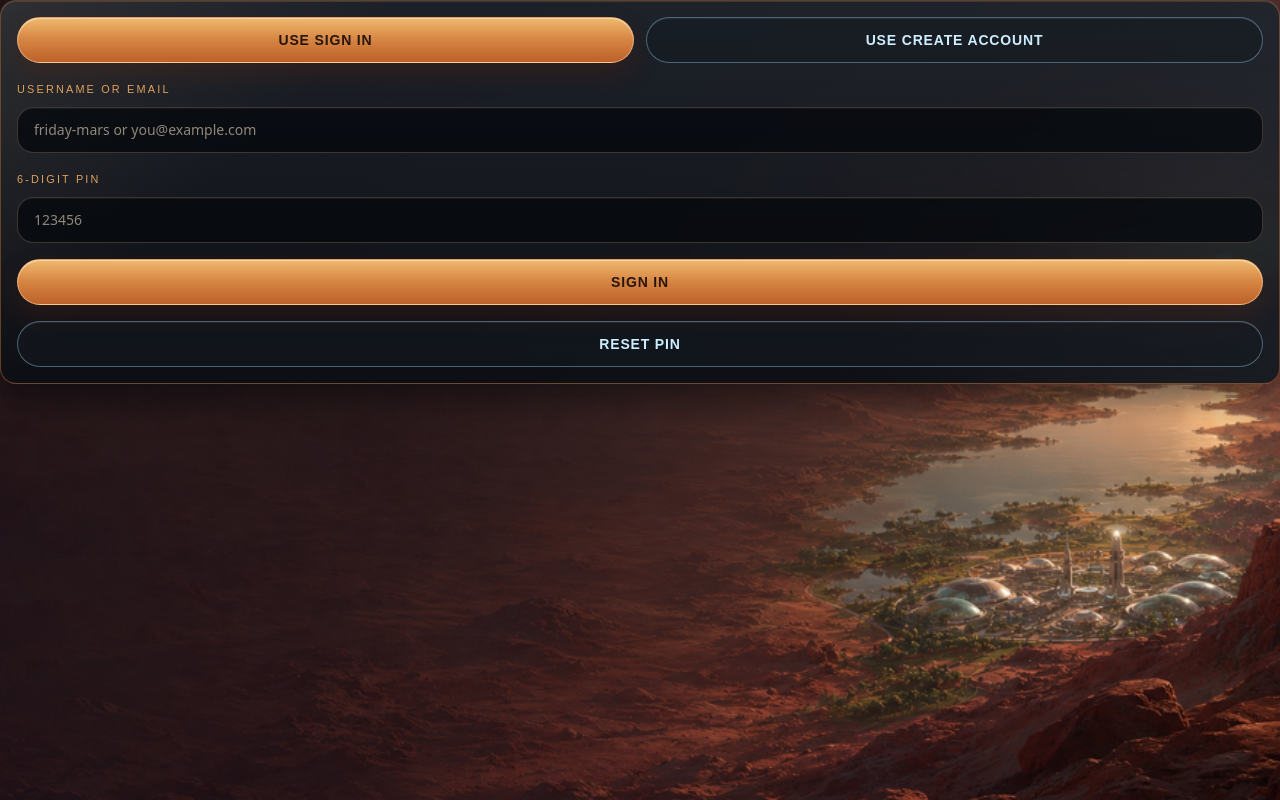
Test: LoginForm › keeps a new user on the username box when the chosen name is taken
Click the button "Use Create Account": (954, 40) [646,17,1263,63]
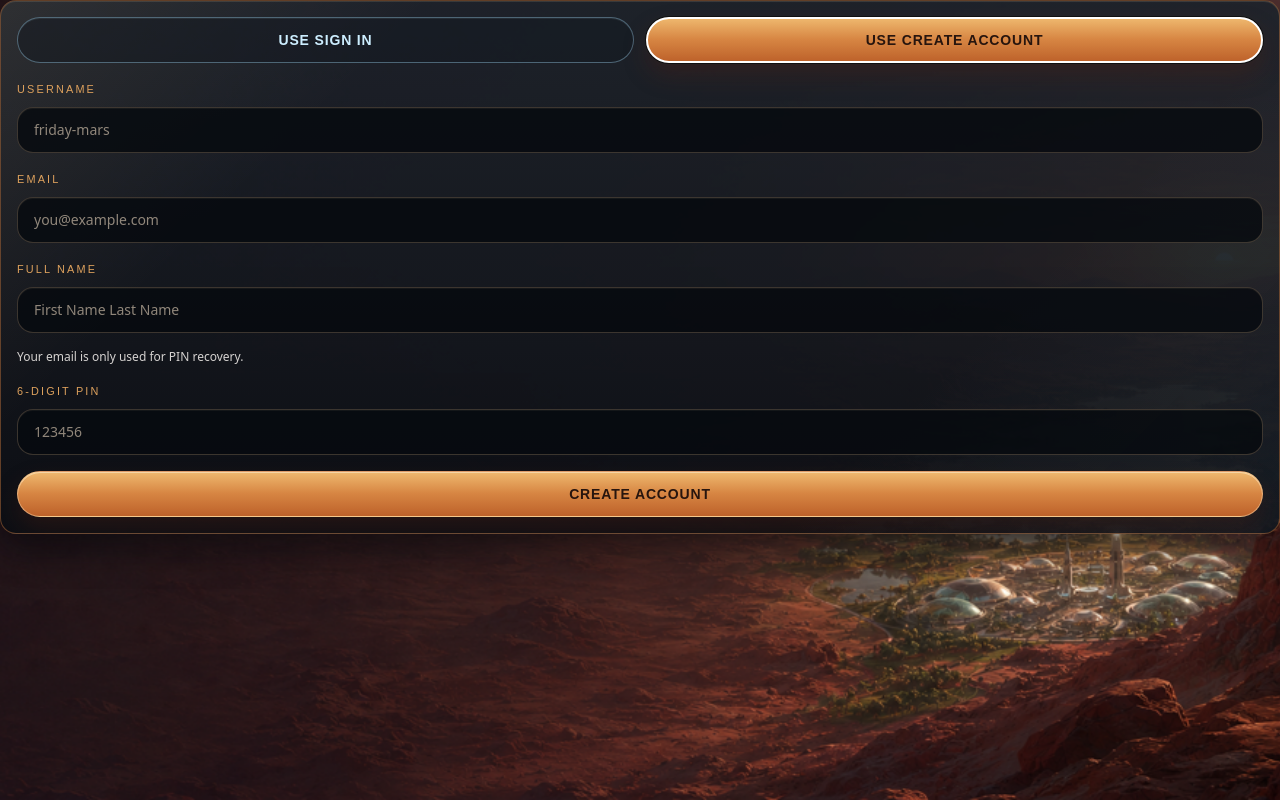
In the field labelled "Full Name": (640, 310) [17,287,1263,333], type "Friday Mars"
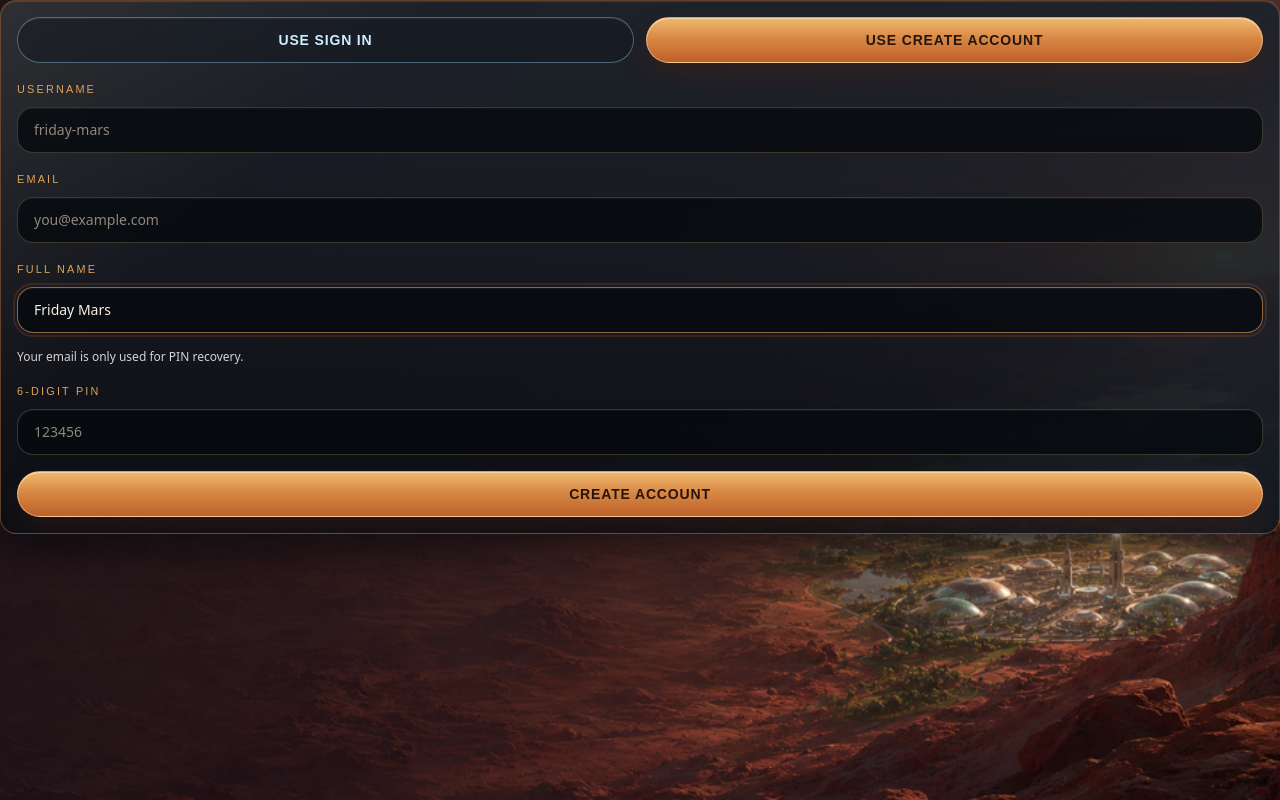
In the field labelled "Username": (640, 130) [17,107,1263,153], type "revloki"
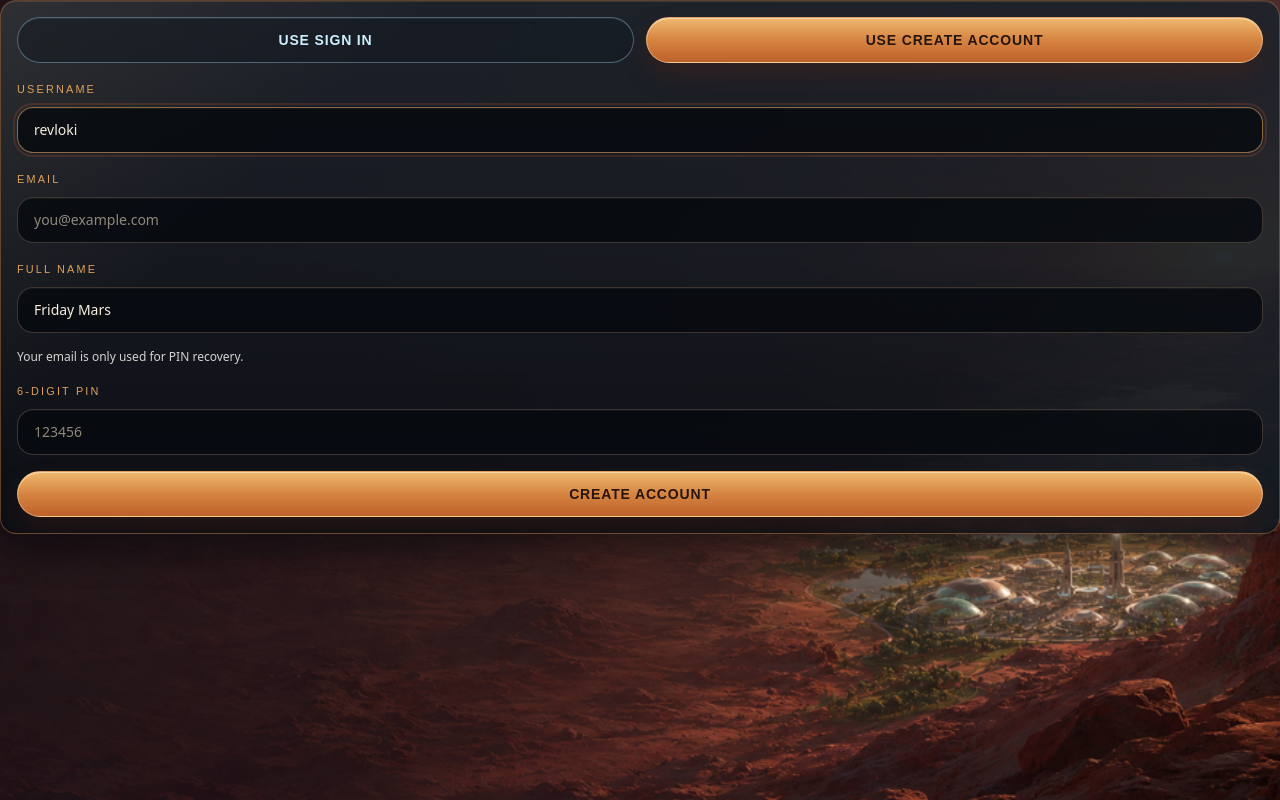
In the field labelled "Email": (640, 220) [17,197,1263,243], type "friday@example.com"
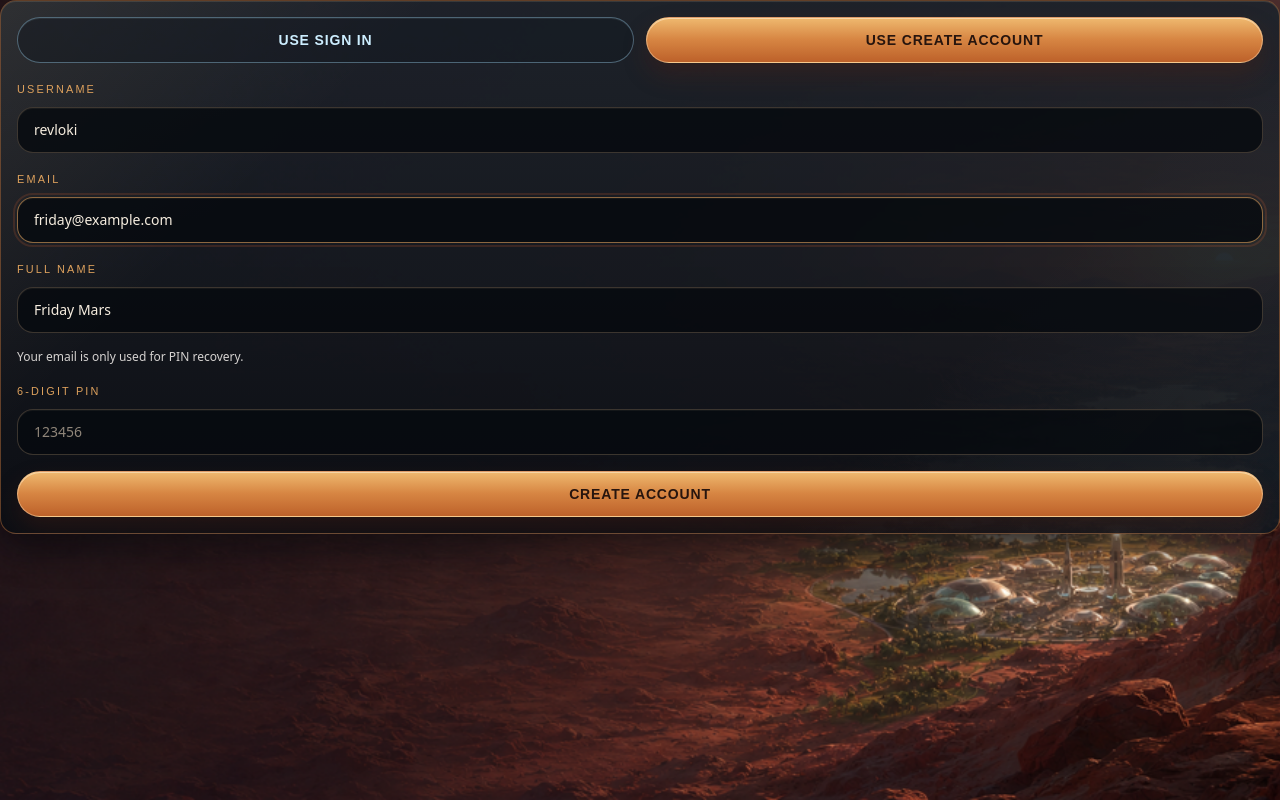
In the password field labelled "6-Digit PIN": (640, 432) [17,409,1263,455], type "123456"
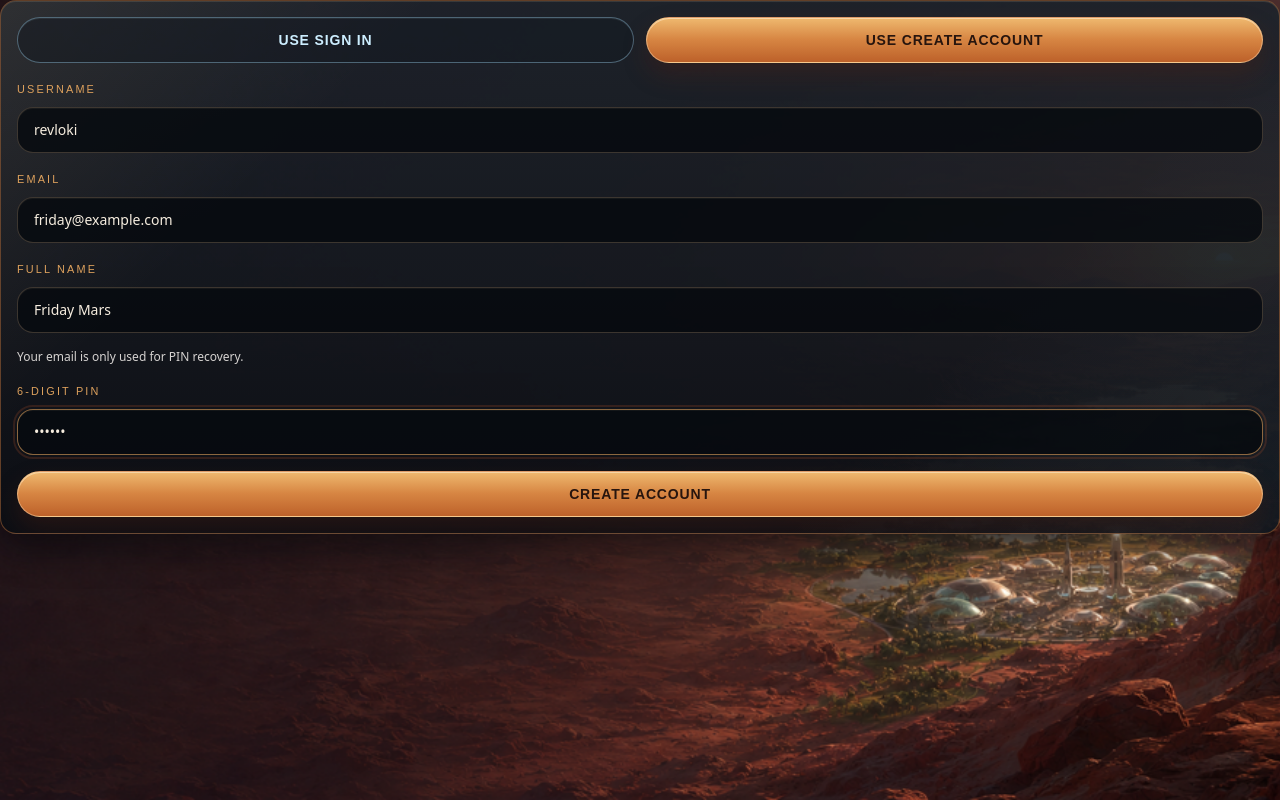
Click the button "Create Account": (640, 494) [17,471,1263,517]
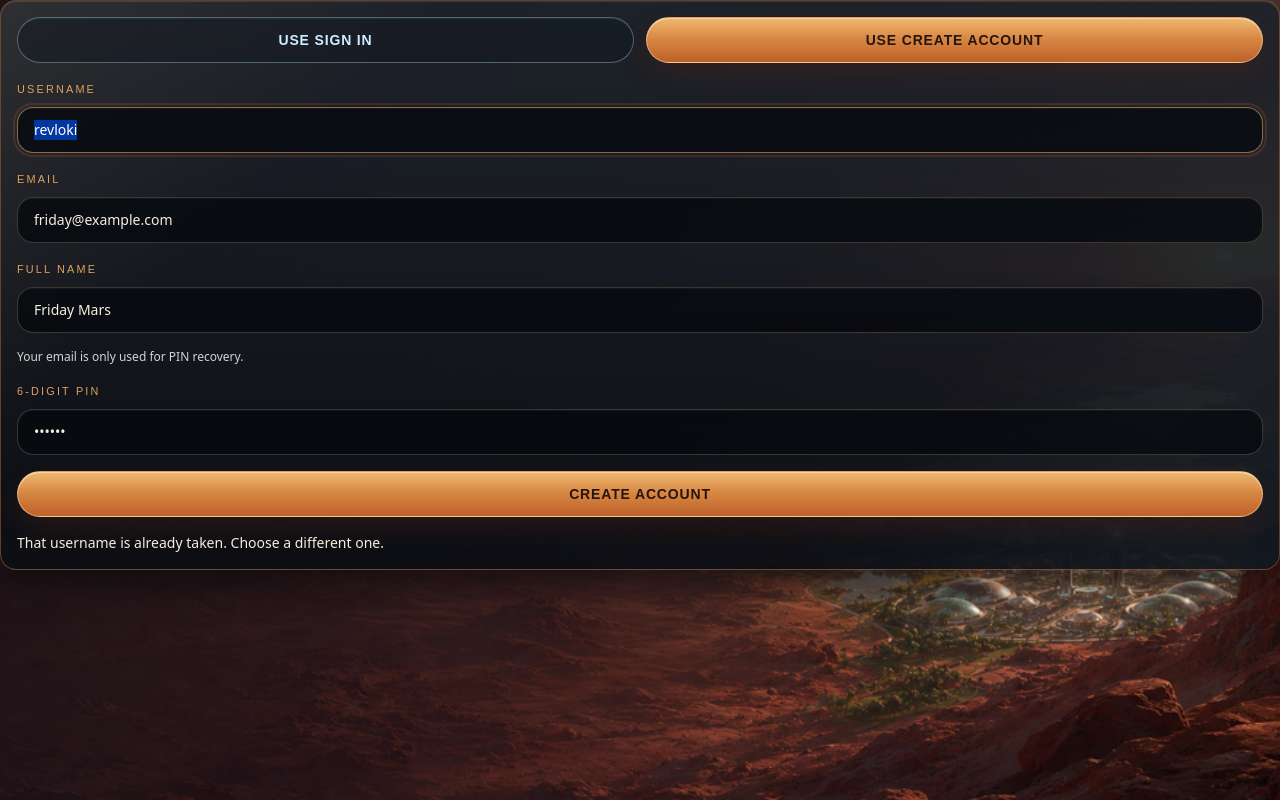
Result: the text "That username is already taken. Choose a different one." is shown at [17,533,384,552]
